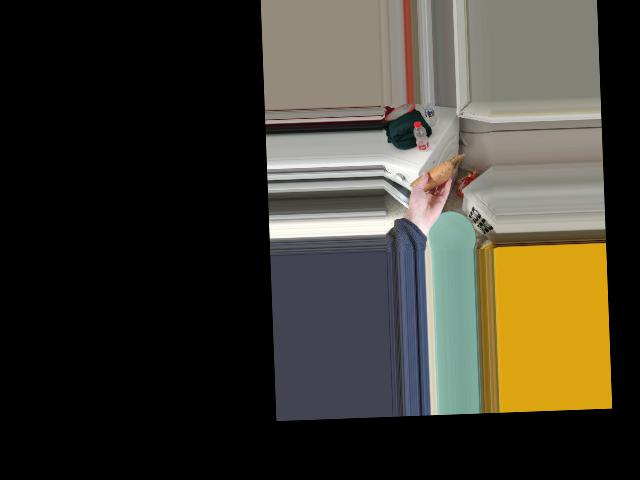sweet_potato: (418, 162, 452, 190)
